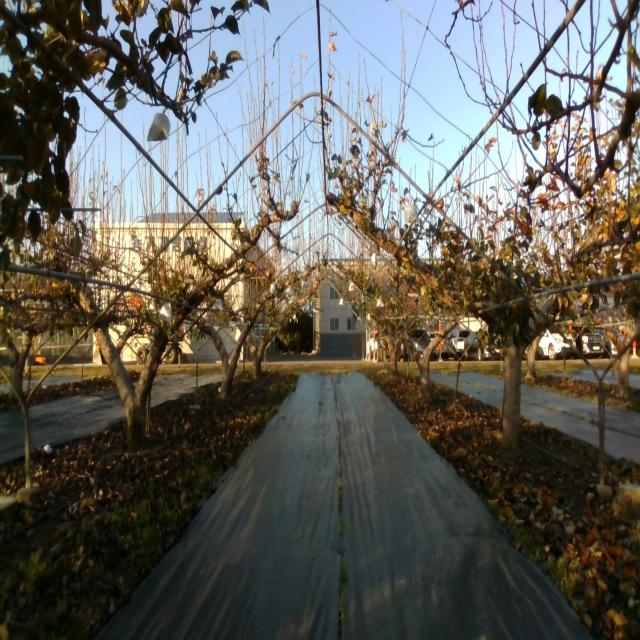pearbags: (146, 113, 171, 142), (158, 302, 172, 324), (404, 204, 420, 223)
